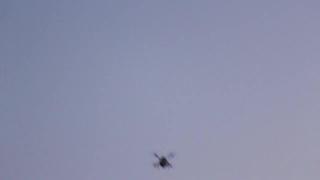UAV: (153, 153, 174, 172)
